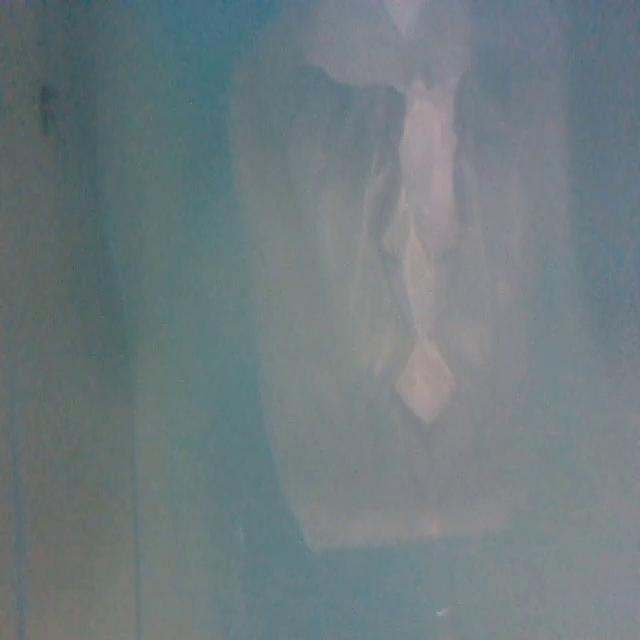plastic bags: (240, 0, 584, 568)
